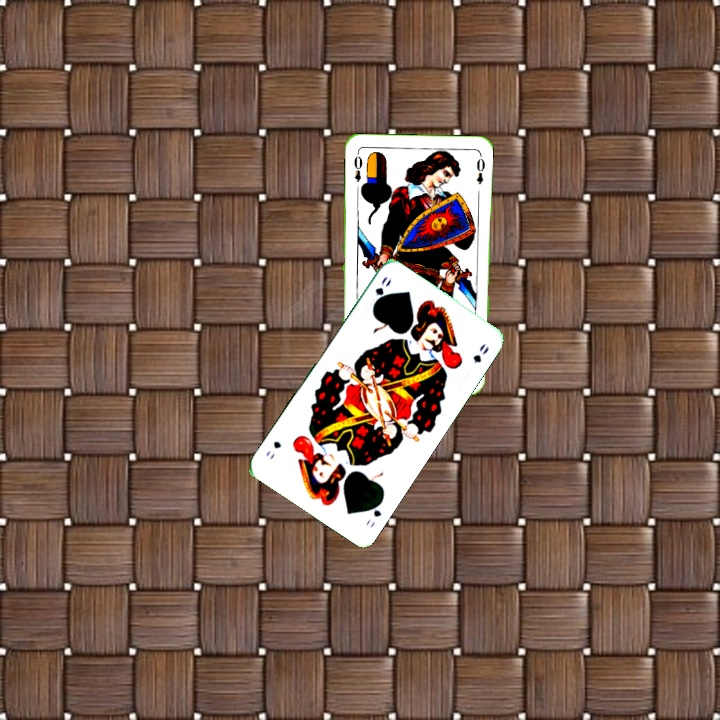EO: (350, 148, 365, 184)
GO: (368, 272, 394, 311), (361, 495, 386, 530)
